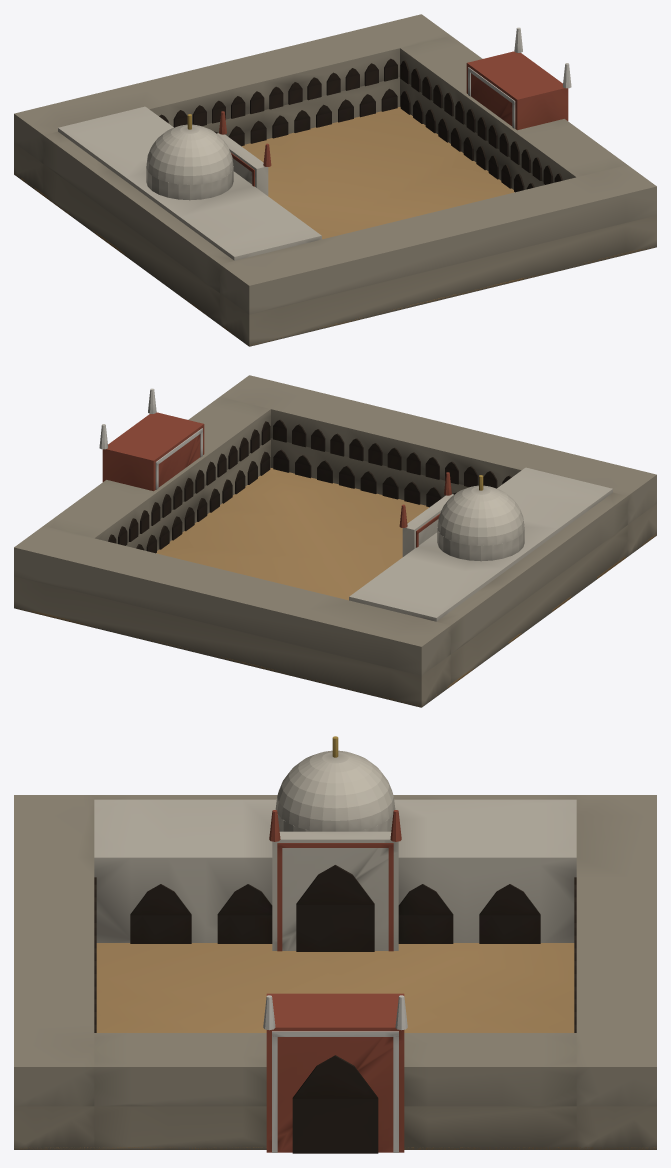
The model's file is khair-ul-manazil.glb.
The picture shows the model from 3 angles, top to bottom: view 1: azimuth 30°, elevation 25°; view 2: azimuth 150°, elevation 25°; view 3: azimuth 270°, elevation 25°; orthographic projection. The views are drawn at different scales.
Parts seen in each view (by area): view 1: p0_madrasa, p1_mosque, p2_dome; view 2: p0_madrasa, p1_mosque, p2_dome; view 3: p0_madrasa, p1_mosque, p2_dome.
Boxes of the visible parts, x1,y1,x2,y2 form: p0_madrasa: [14, 14, 656, 346]; p1_mosque: [58, 27, 571, 260]; p2_dome: [146, 114, 233, 200]; p0_madrasa: [14, 375, 656, 707]; p1_mosque: [99, 388, 612, 621]; p2_dome: [437, 475, 524, 561]; p0_madrasa: [14, 795, 656, 1149]; p1_mosque: [94, 799, 576, 1153]; p2_dome: [275, 736, 395, 831].
Bounding box in the file's own units: 57.04 × 17.26 × 56.
